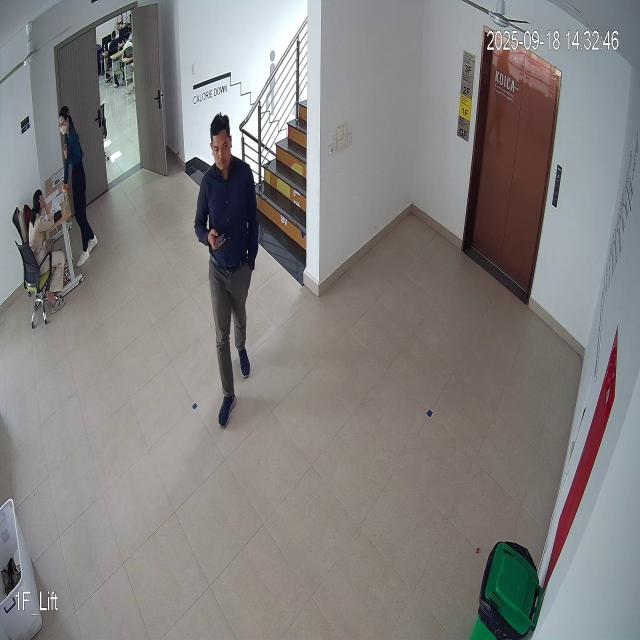face: (204, 110, 238, 177)
